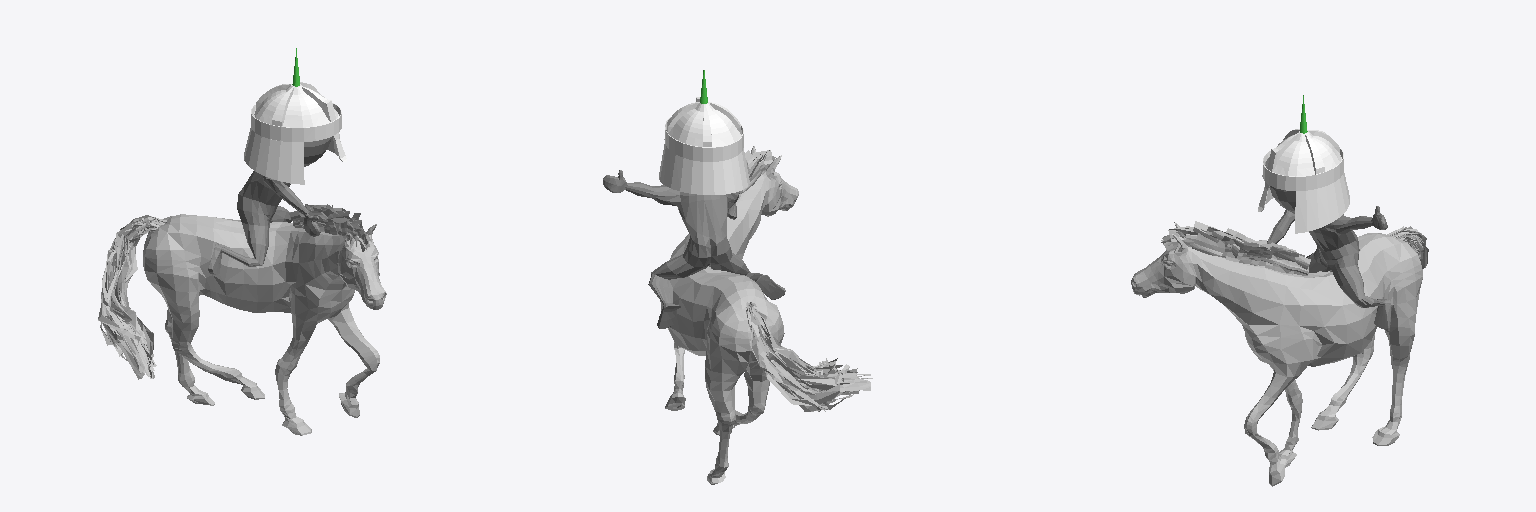
Rendered from finno_genghis_khan.obj.
3 renders of one model, left to right at view 1: azimuth 30°, elevation 25°; view 2: azimuth 150°, elevation 25°; view 3: azimuth 270°, elevation 25°, orthographic.
Parts seen in each view (by area): view 1: Horse, Sphere, Virtual_Man; view 2: Horse, Virtual_Man, Sphere; view 3: Horse, Sphere, Virtual_Man.
Part boxes in pixels (x1,y1,x2,y2): Horse: (98, 204, 386, 435); Sphere: (244, 82, 346, 184); Virtual_Man: (208, 137, 331, 274); Horse: (660, 146, 872, 484); Virtual_Man: (603, 170, 785, 328); Sphere: (659, 97, 749, 194); Horse: (1131, 221, 1428, 486); Sphere: (1258, 129, 1349, 233); Virtual_Man: (1267, 186, 1390, 328).
Size of the model in its own units: 1.18 by 1.86 by 1.34.